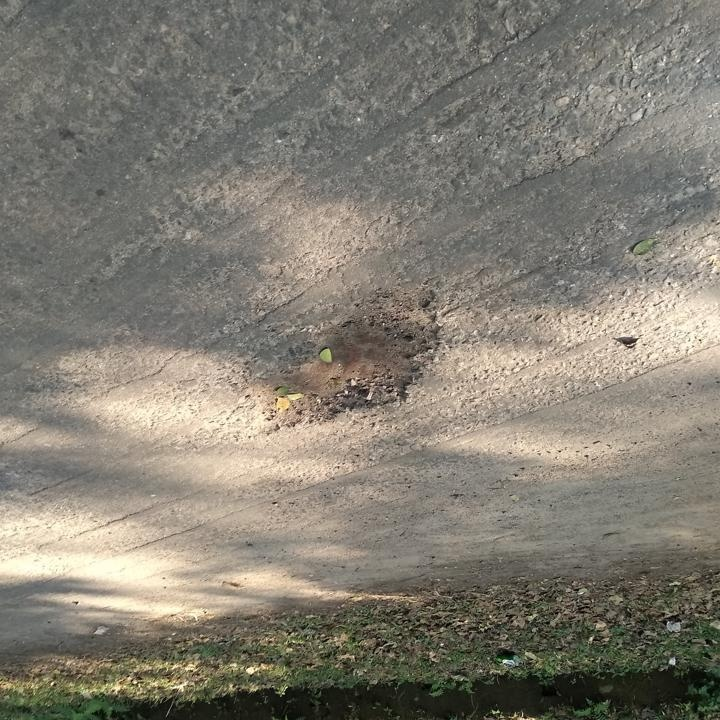pothole: (241, 281, 448, 440)
